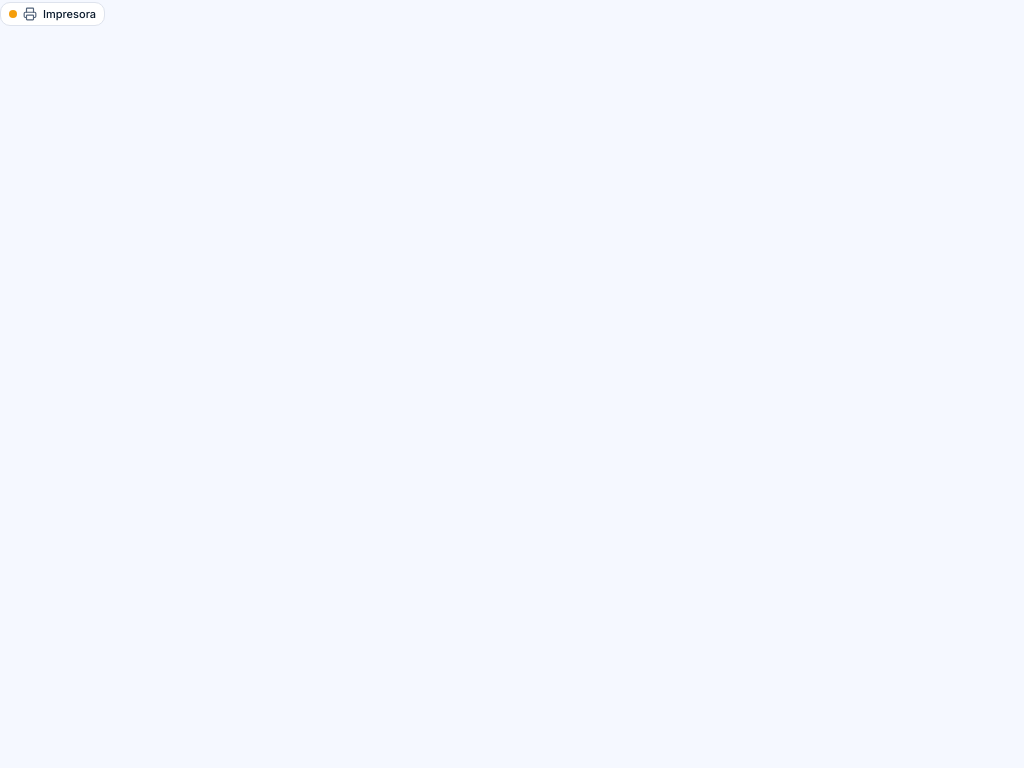
Test: StatusPill a11y › el popover usa role=dialog y describe el estado en aria-live
Click the button "Impresora": {"x": 53, "y": 14} [0, 2, 105, 26]
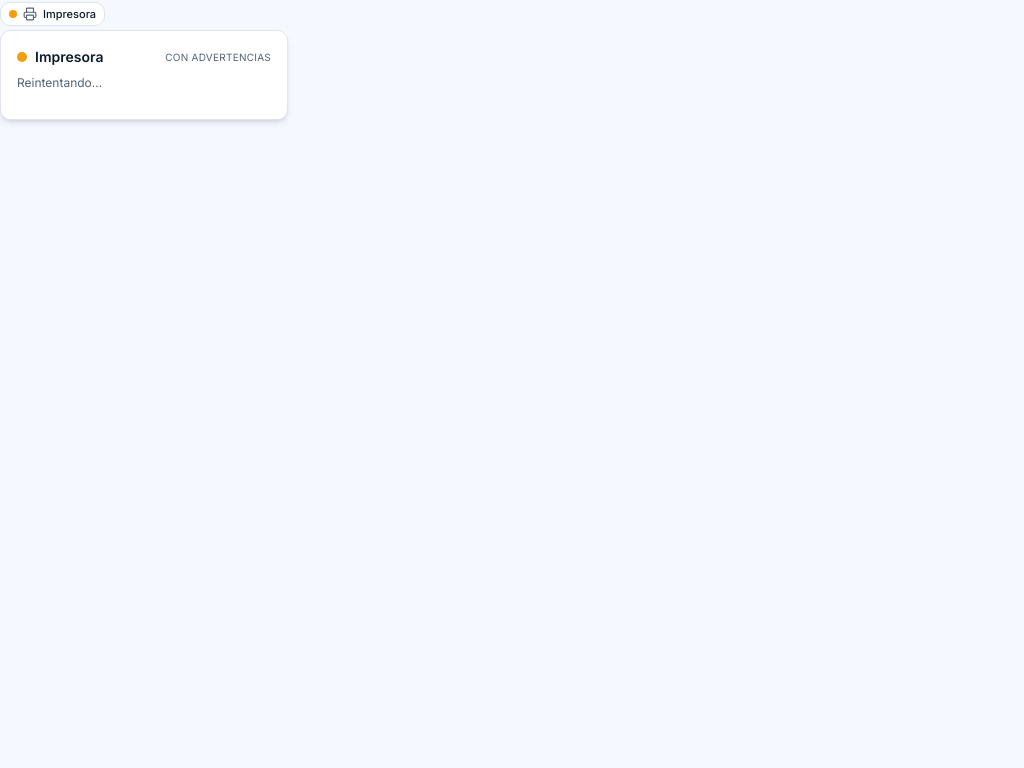
Result: the dialog is shown at [0, 30, 288, 120]
